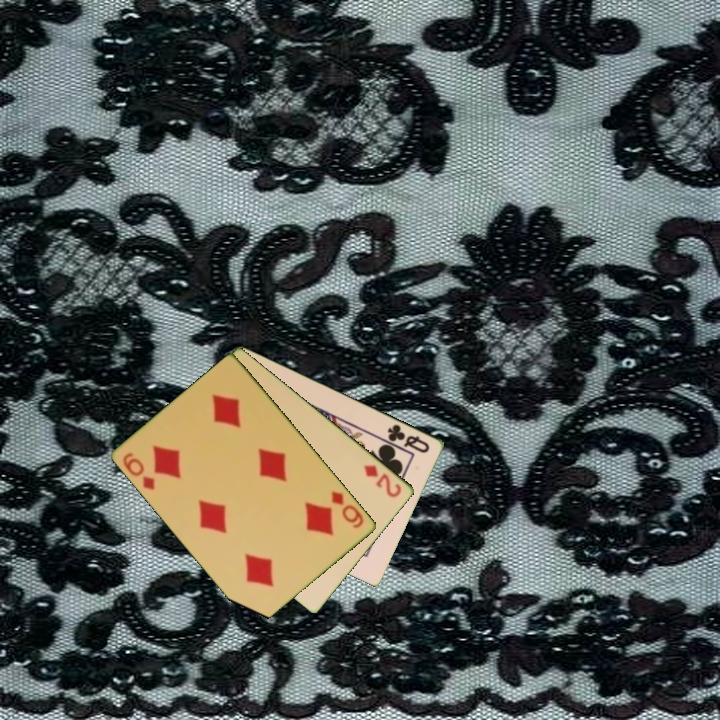2d: (360, 461, 405, 500)
6d: (328, 487, 367, 531), (119, 449, 158, 493)
Qc: (384, 420, 433, 456)
